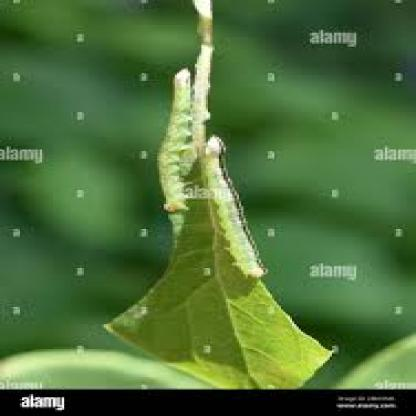sawfly: (193, 132, 278, 280), (156, 64, 204, 222)
